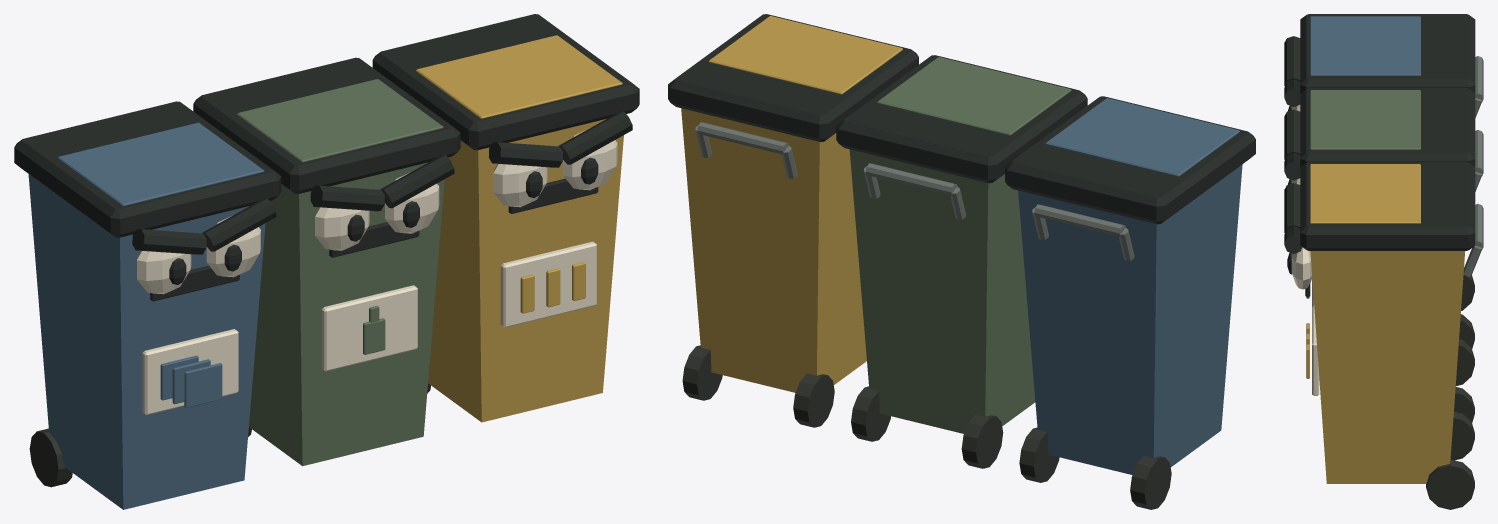
File: recycling-judges.glb
3 views of the same model, side by side, from view 1: azimuth 30°, elevation 25°; view 2: azimuth 150°, elevation 25°; view 3: azimuth 270°, elevation 25° (orthographic). The views are drawn at different scales.
Visible parts, largest first — view 1: recycling-judges; view 2: recycling-judges; view 3: recycling-judges.
Part boxes in pixels (left/top/right/bottom): recycling-judges: left=14, top=14, right=639, bottom=509; recycling-judges: left=668, top=14, right=1255, bottom=509; recycling-judges: left=1284, top=14, right=1483, bottom=509.
Bounding box in the file's own units: 1.87 × 1.16 × 0.7233.
